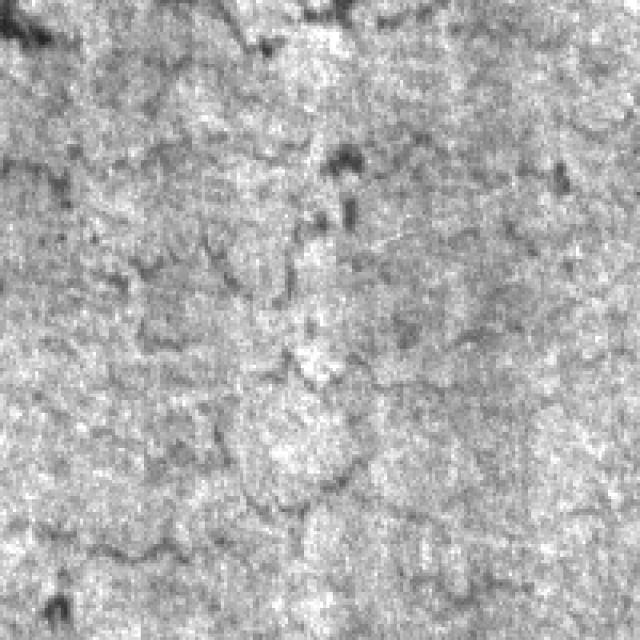crazing: (3, 3, 630, 179), (39, 112, 582, 301), (38, 323, 516, 528)
